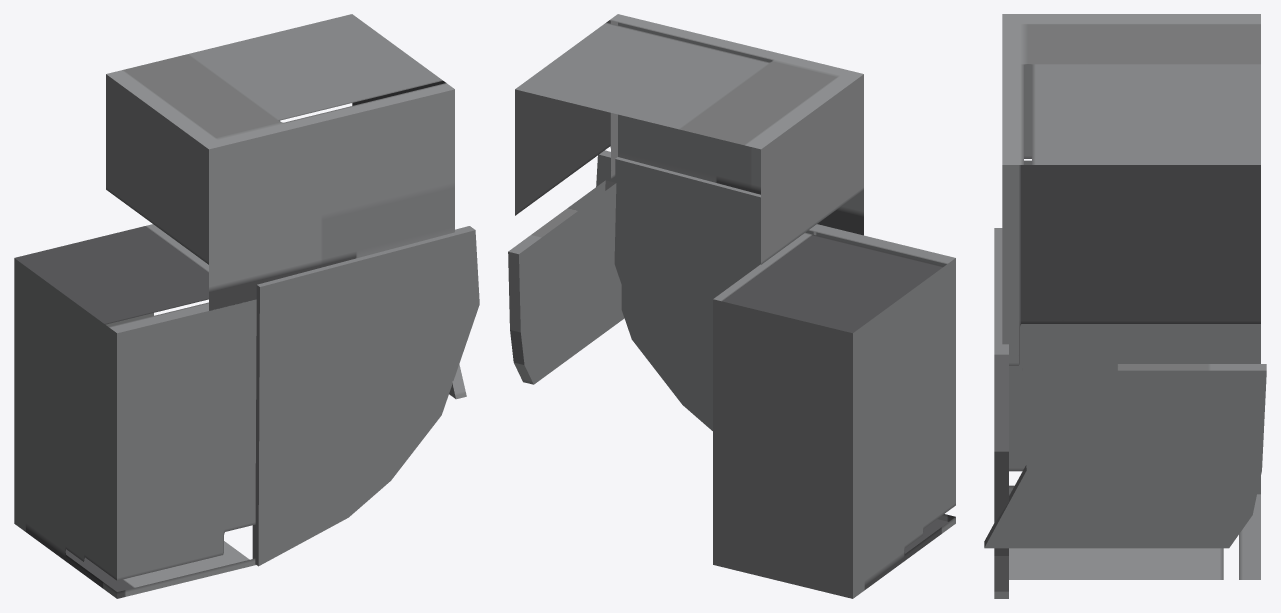
3 renders of one model, left to right at view 1: azimuth 30°, elevation 25°; view 2: azimuth 150°, elevation 25°; view 3: azimuth 270°, elevation 25°, orthographic. The views are drawn at different scales.
Bounding box in the file's own units: 0.6741 × 0.7655 × 0.3656.
